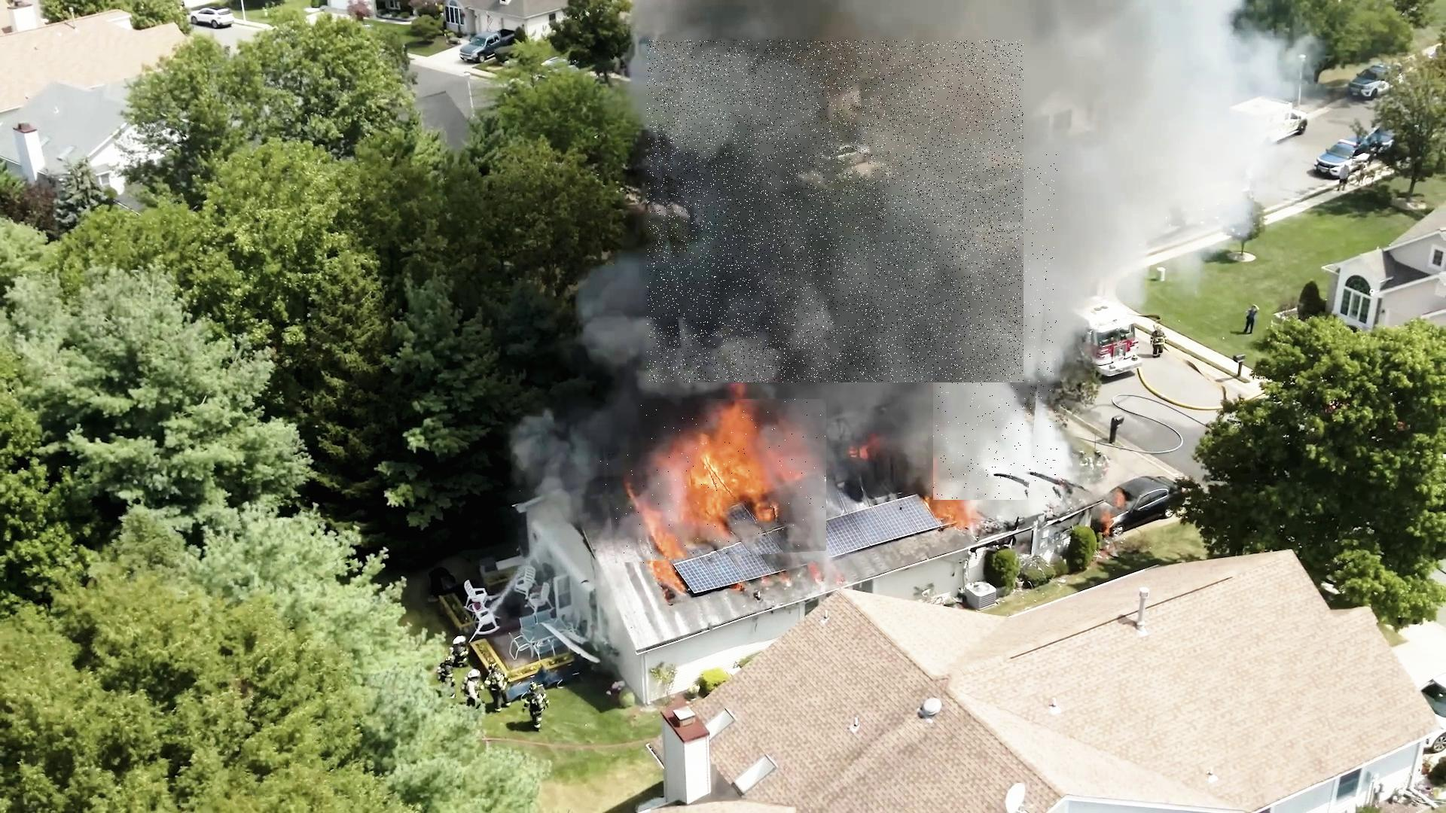fire: (597, 399, 826, 563)
smoke: (647, 40, 1024, 383), (934, 153, 1058, 500)
